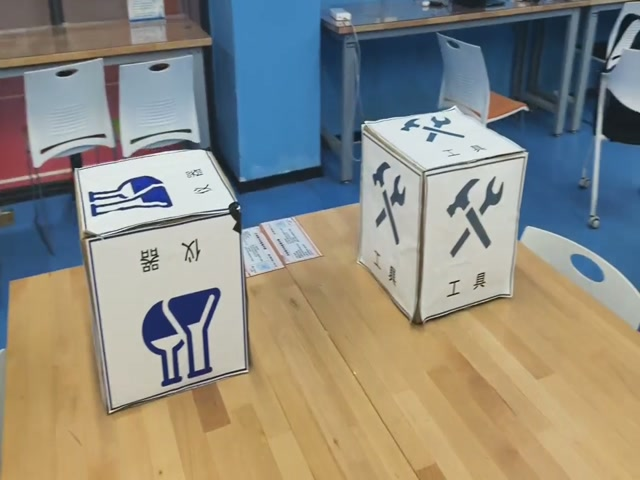Cube_ins: (75, 150, 240, 246)
Cube_tool: (362, 107, 527, 175)
